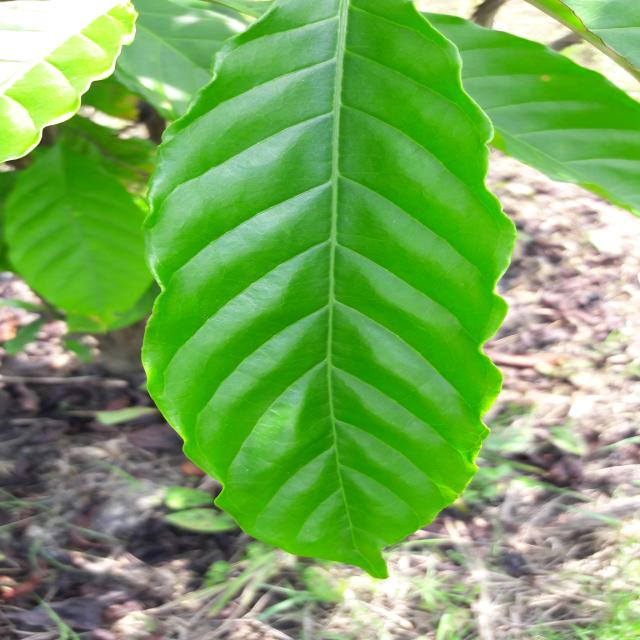Sanas: (139, 0, 521, 581)
